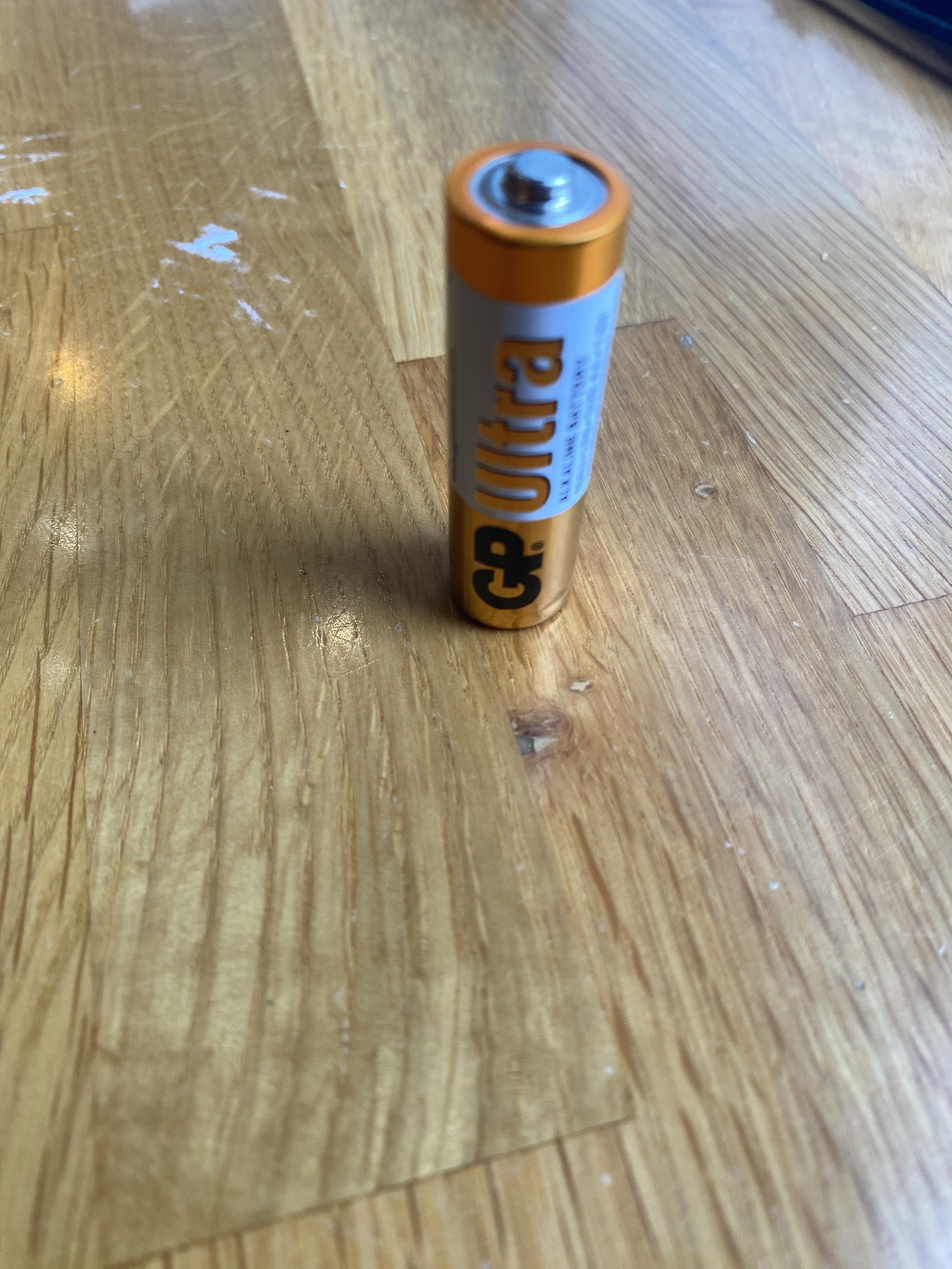AA: (441, 138, 632, 630)
